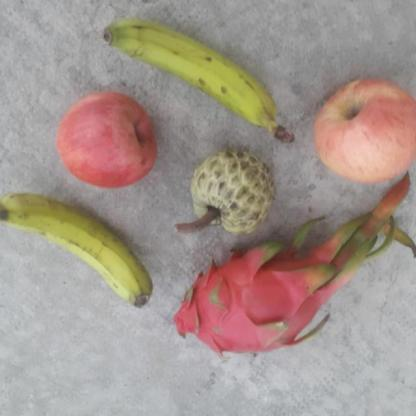annona: (181, 148, 278, 241)
apple: (305, 74, 415, 196), (56, 87, 160, 189)
banana: (91, 18, 292, 144), (0, 188, 154, 309)
pitaya: (167, 237, 341, 364)
